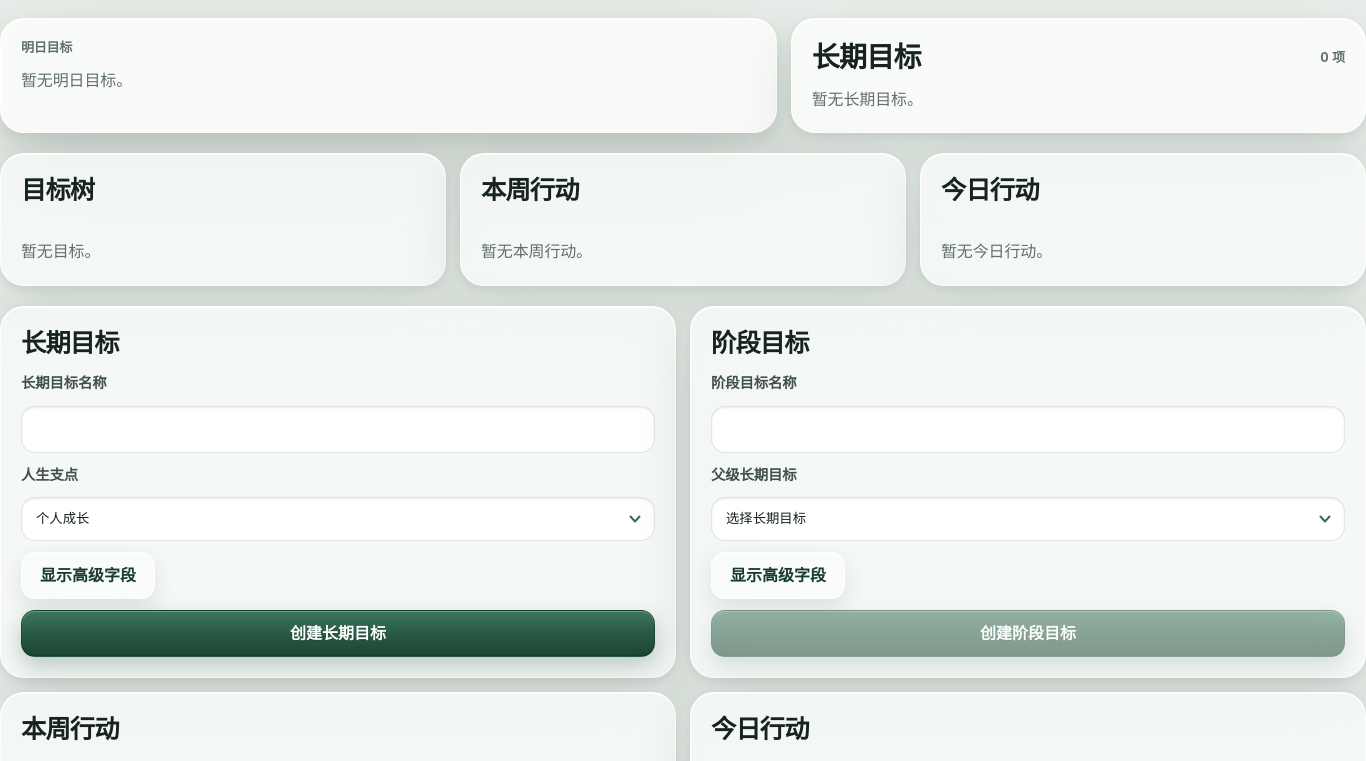
Scenario: PlanningWorkspace › keeps a validation-rejected draft editable without treating it as a safe retry
This screenshot has width=1366, height=761.
Type "需要修改的草稿" into the field labelled "长期目标名称" at (338, 429), box [21,406,655,453]
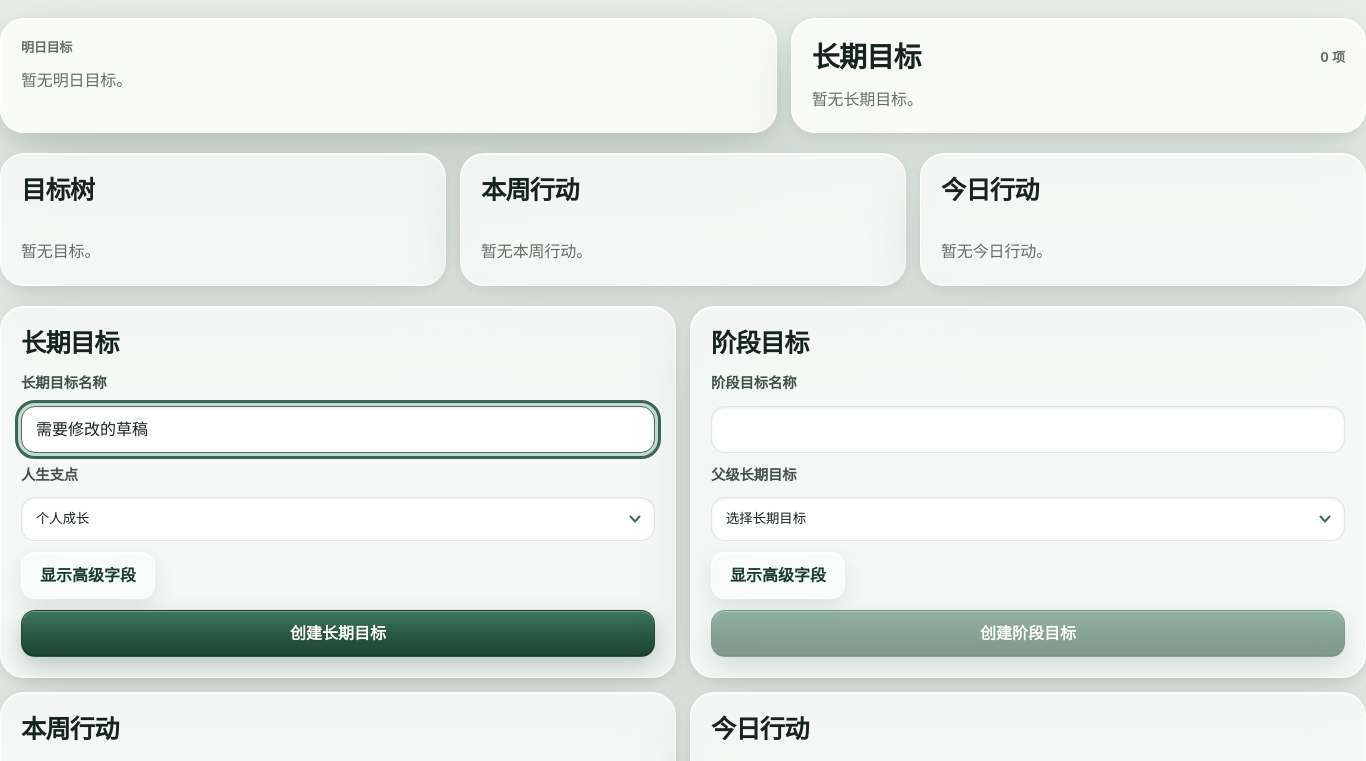
Click the button "创建长期目标" at (338, 633), box [21,610,655,656]
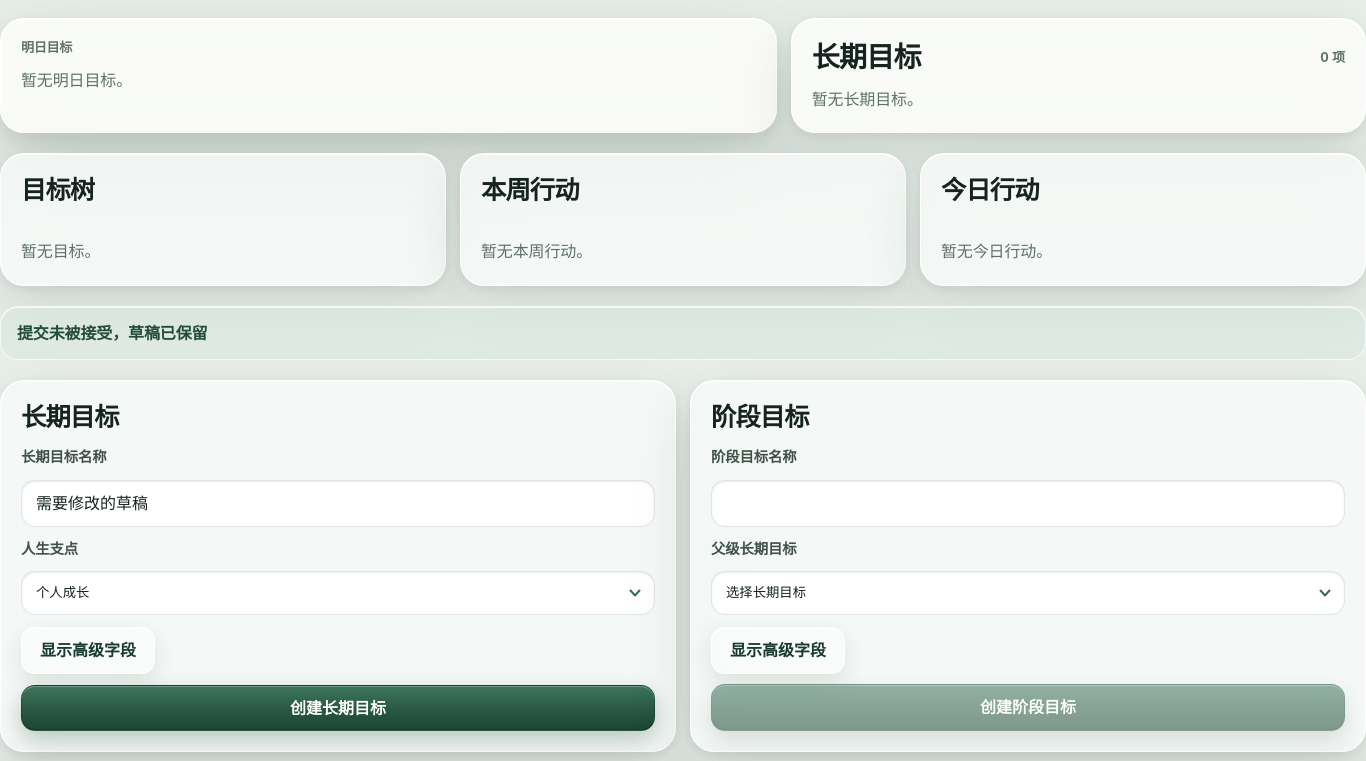
expect the text "提交未被接受，草稿已保留" is shown: met, box [0,306,1365,360]
